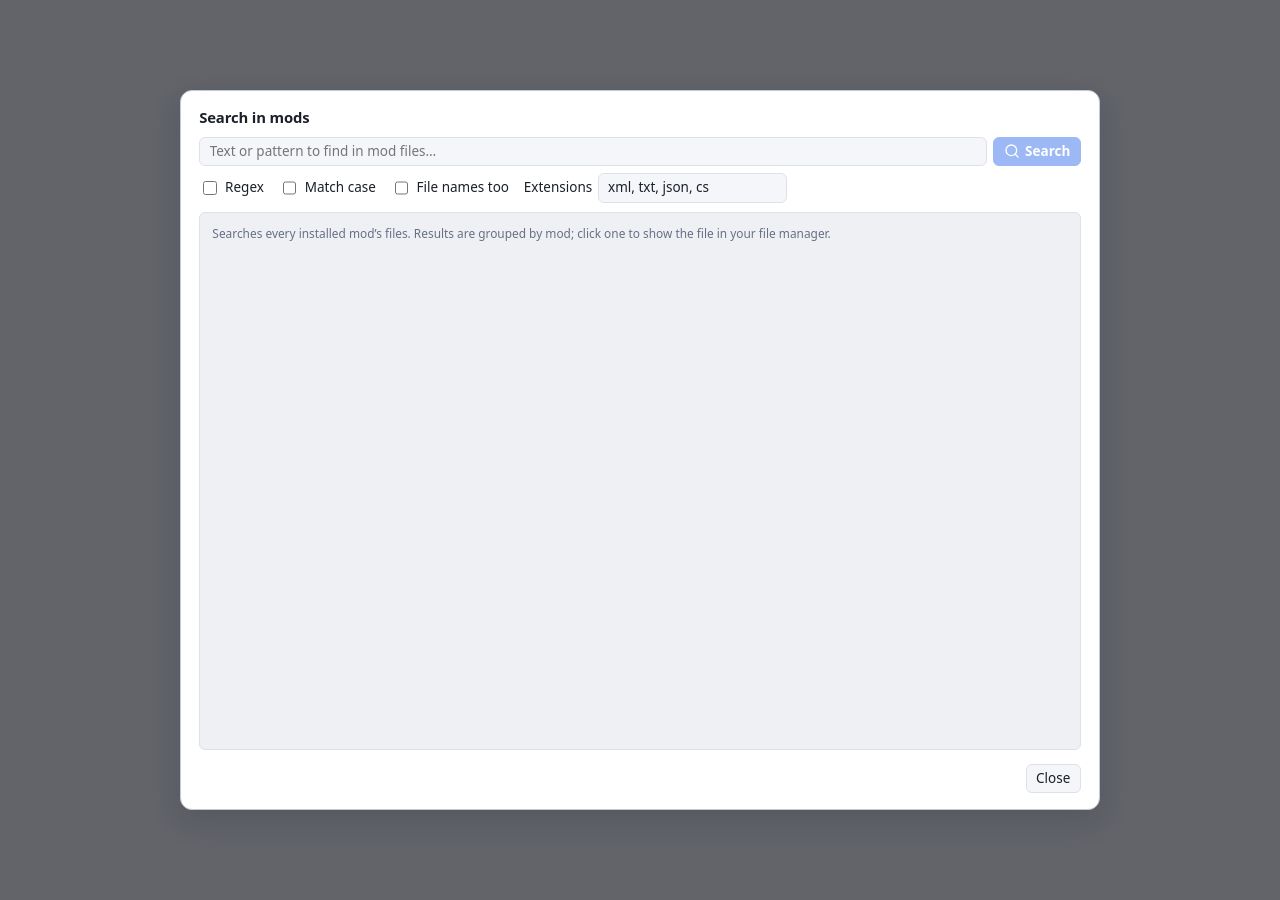
SearchDialog › sends the query with parsed extensions and groups hits by mod
Type "harmony" into the search field named "Search text". click: (593, 151)
box: [199,137,986,166]
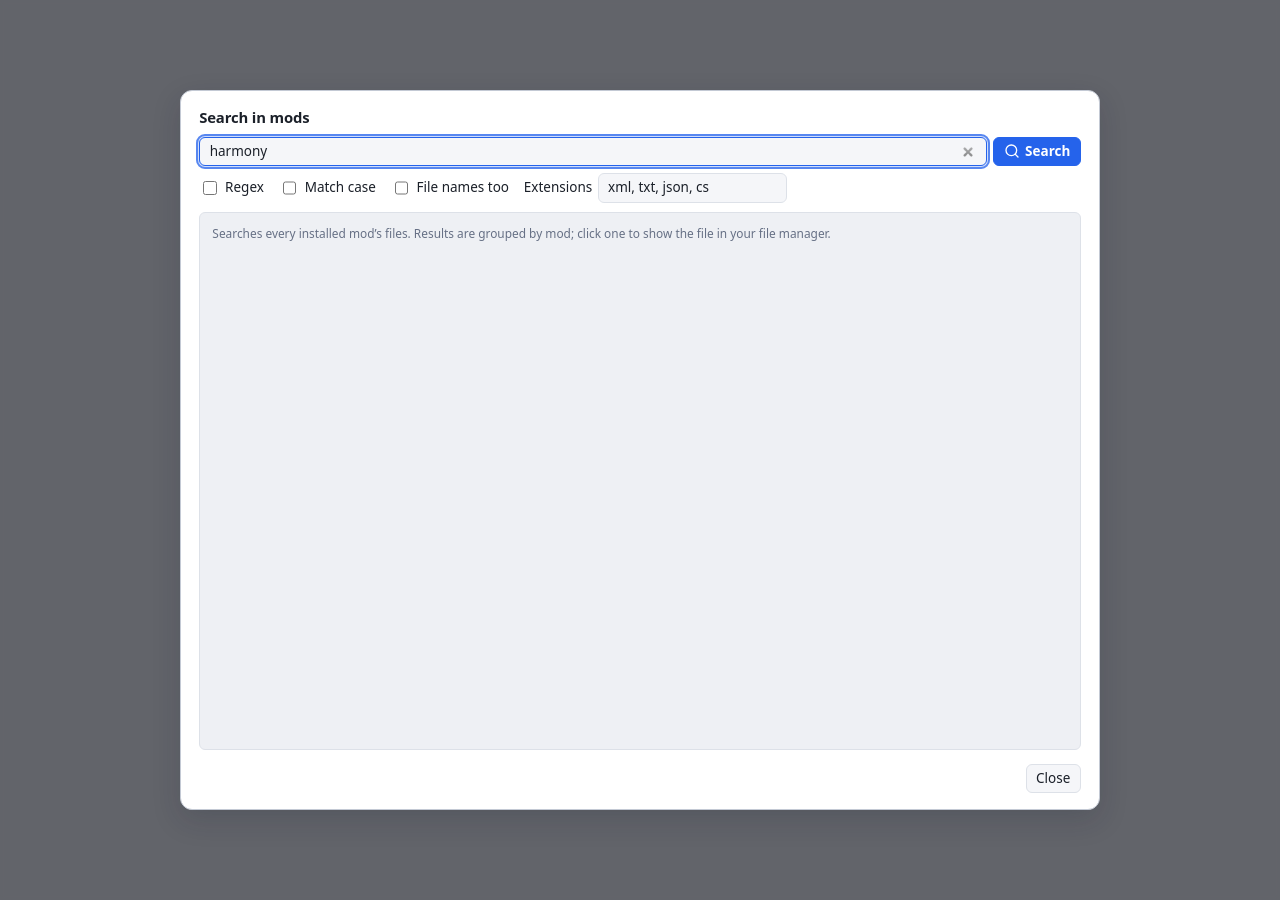
Click the button "Search". click: click(1037, 151)
box: [993,137,1081,166]
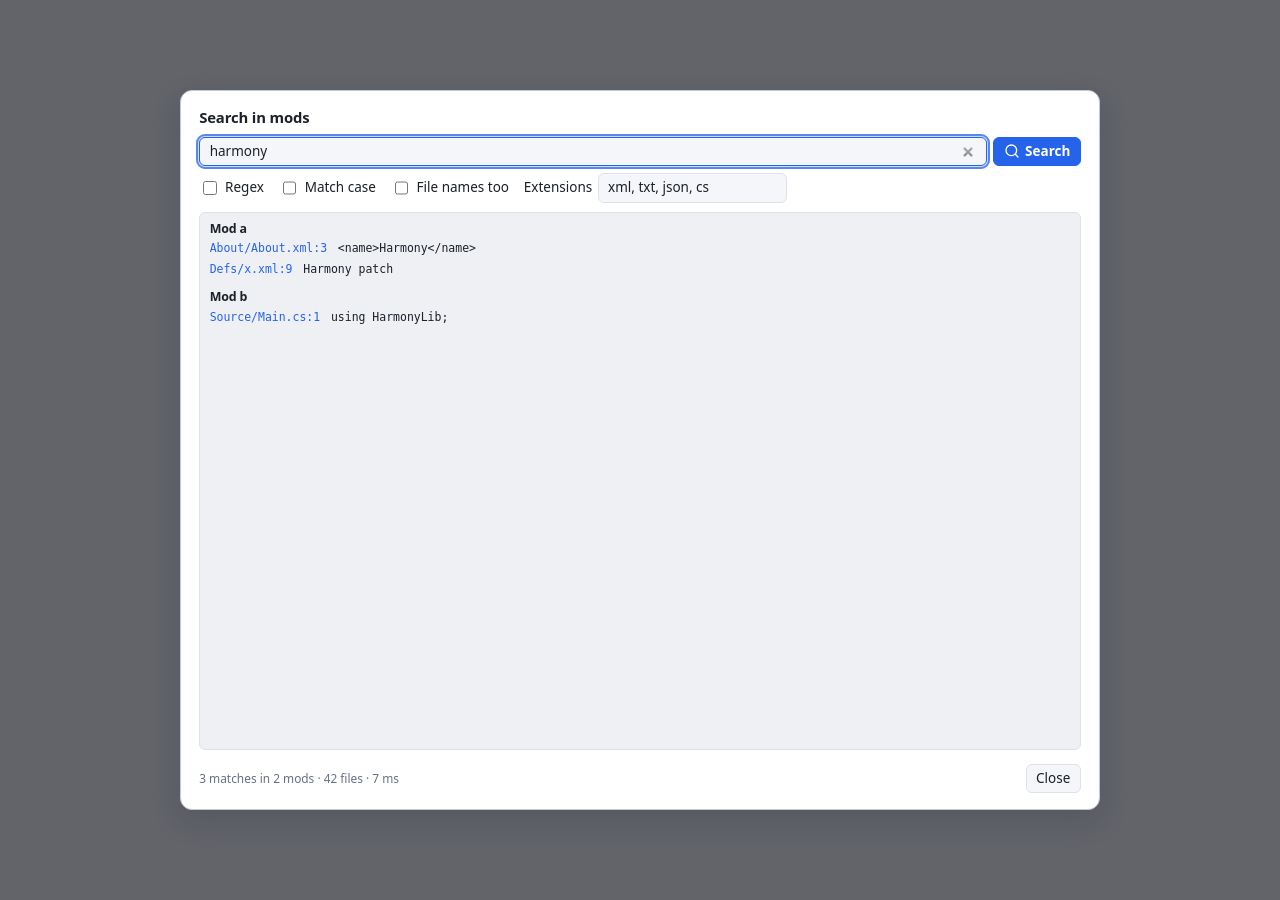
Expected: the text "About/About.xml:3" is shown, [210,240,327,256]
Expected: the text "3 matches in 2 mods · 42 files · 7 ms" is shown, [199,770,399,787]
